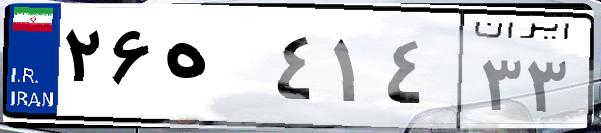1: (330, 28, 385, 110)
2: (57, 26, 110, 100)
3: (475, 38, 525, 113), (525, 38, 570, 115)
4: (270, 28, 330, 110), (385, 28, 445, 110)
6: (110, 28, 158, 98)
ه: (158, 20, 270, 120)
